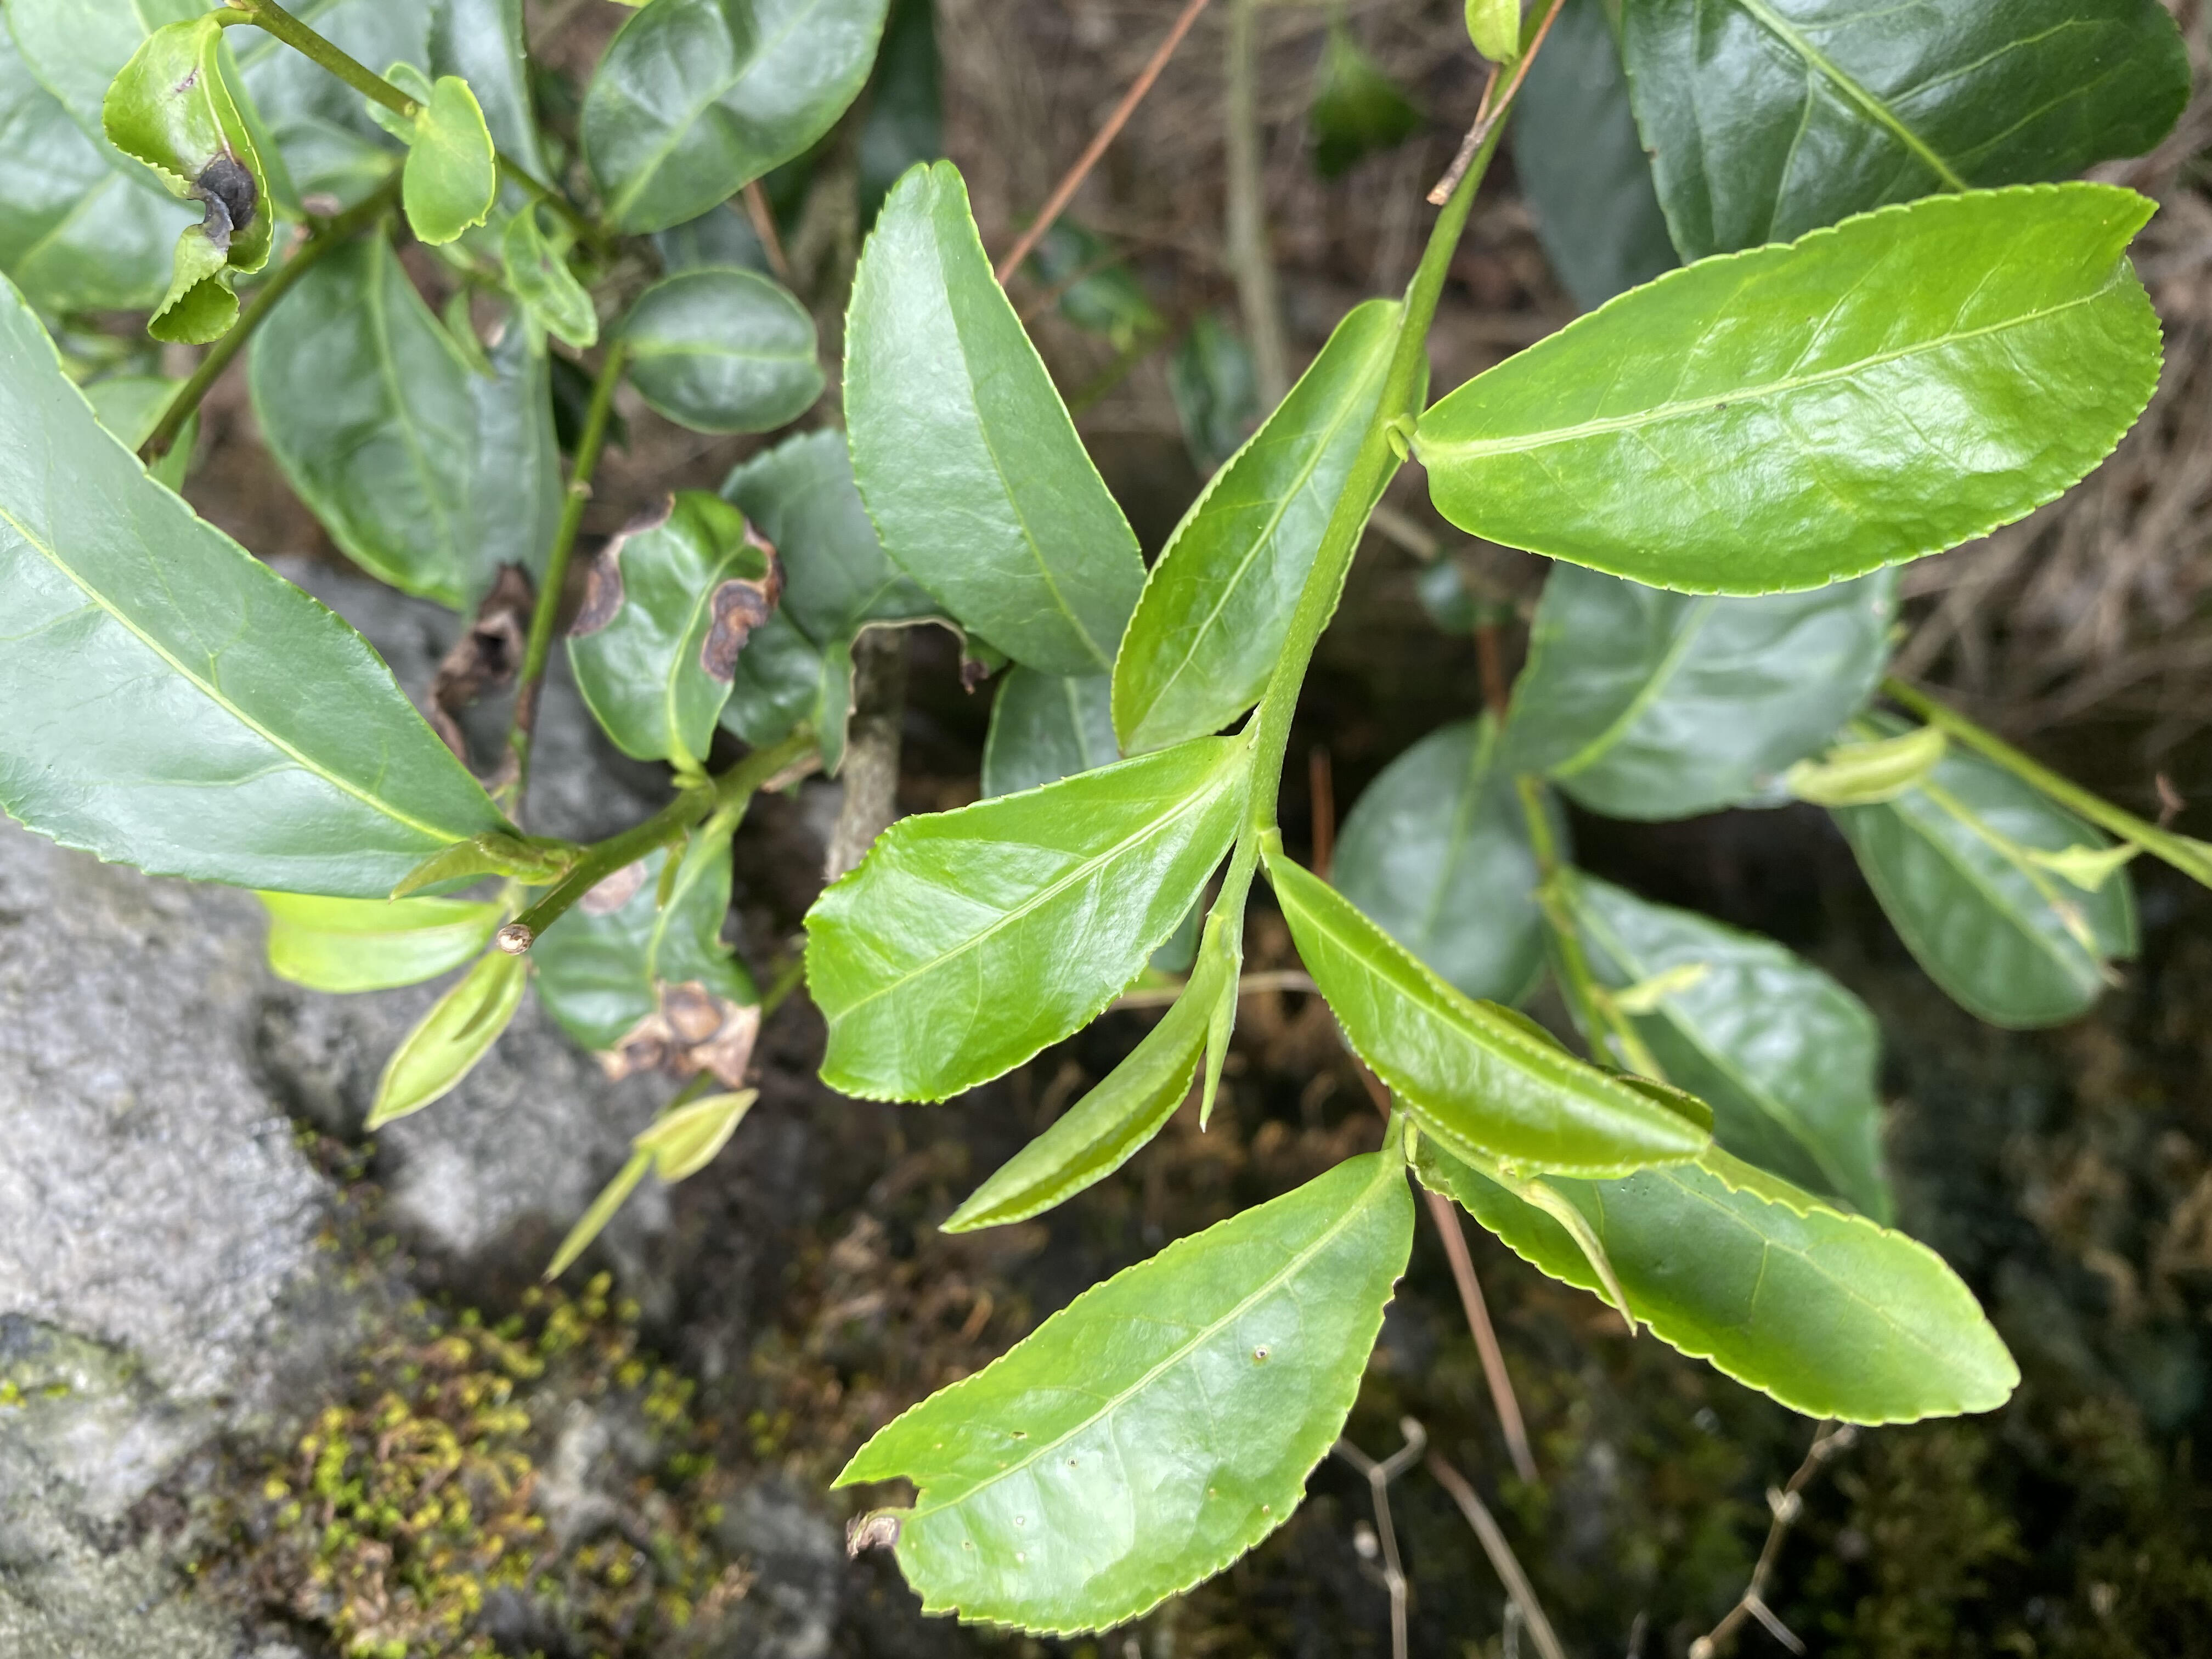healthy: (2, 265, 505, 897), (1425, 181, 2165, 598), (799, 735, 1249, 1103), (1268, 857, 1714, 1178)
tanju_high: (563, 486, 787, 767), (528, 831, 761, 1091), (99, 14, 275, 345)
